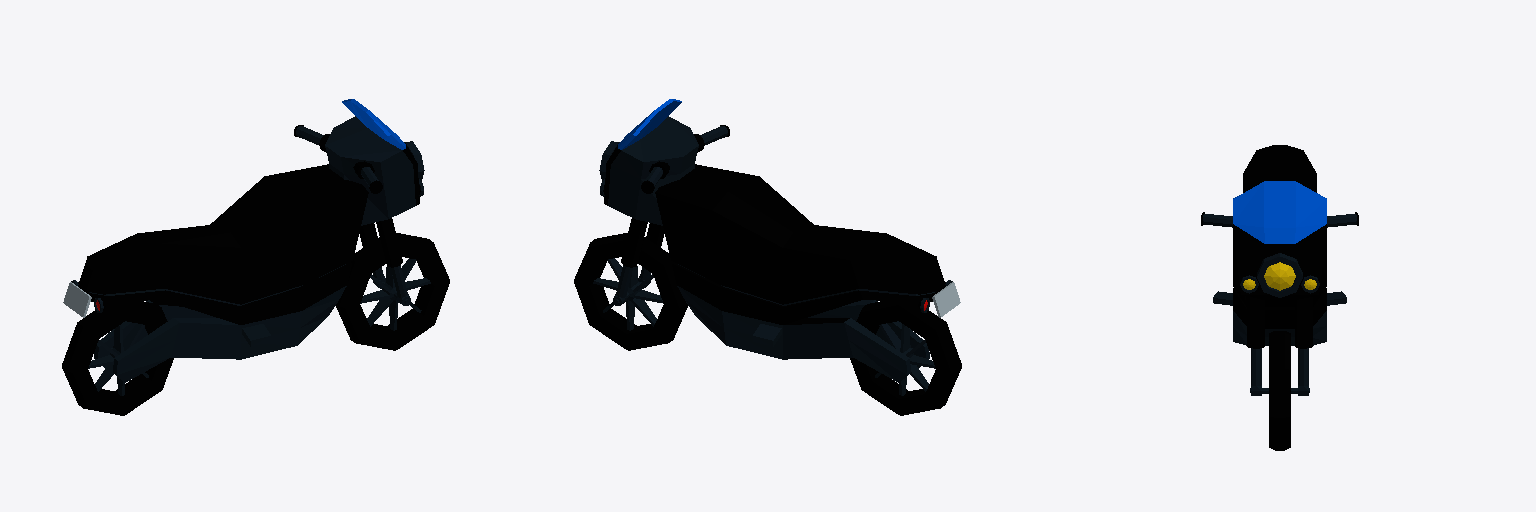
File: Motorcycle_01.obj
The picture shows the model from 3 angles: view 1: azimuth 30°, elevation 25°; view 2: azimuth 150°, elevation 25°; view 3: azimuth 270°, elevation 25°; orthographic projection.
Parts seen in each view (by area): view 1: Circle.001_Circle.007; view 2: Circle.001_Circle.007; view 3: Circle.001_Circle.007.
Boxes of the visible parts, x1,y1,x2,y2 form: Circle.001_Circle.007: [62, 99, 449, 415]; Circle.001_Circle.007: [574, 99, 961, 415]; Circle.001_Circle.007: [1201, 145, 1358, 450].
Size of the model in its own units: 15.79 by 9.94 by 5.68.